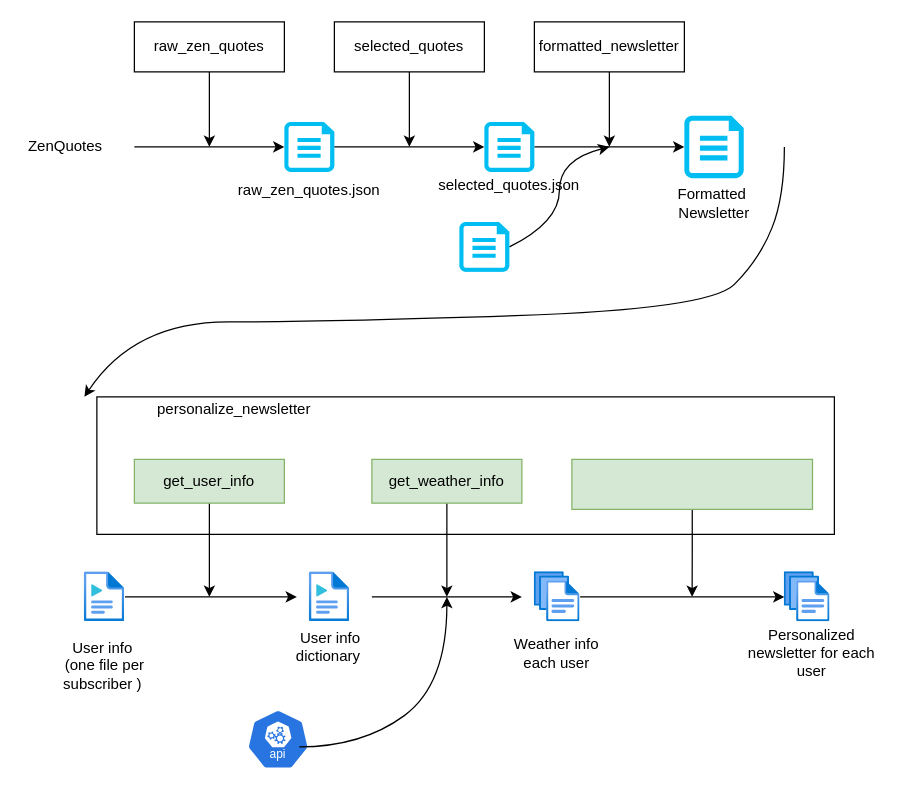
Image size: 900x791. Some labels were removed from this diagram. The centre of each missing label's shape, as x and y in pixels:
create_personalized_newsletter: point (691, 483)
Newsletter Template: point (483, 290)
